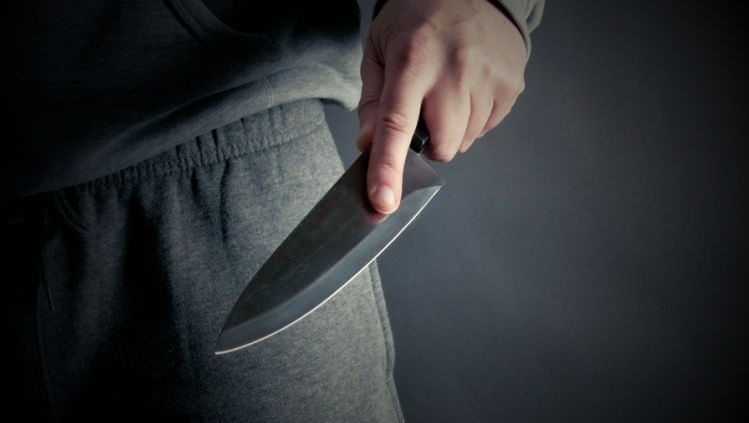knife: (211, 81, 453, 360)
